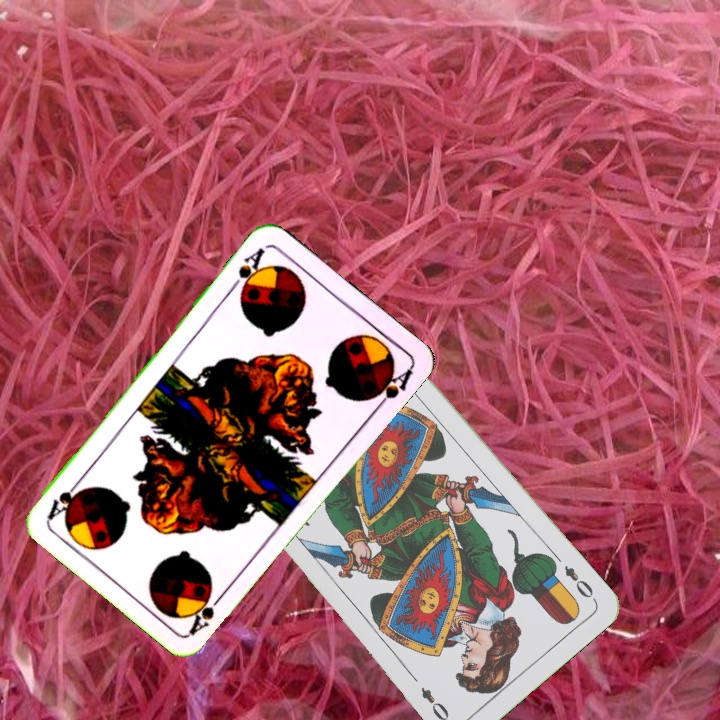EO: (560, 560, 597, 601)
SA: (184, 585, 229, 637), (226, 243, 268, 298)
